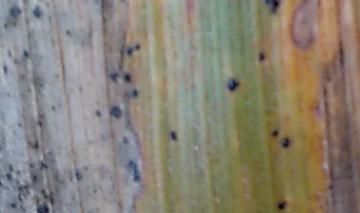tarspot: (124, 158, 142, 184), (261, 1, 284, 16), (8, 6, 23, 29), (225, 76, 241, 93), (253, 49, 268, 65), (31, 4, 43, 22), (108, 104, 121, 120), (105, 71, 120, 84), (280, 137, 292, 150), (276, 199, 287, 213), (16, 185, 23, 204), (122, 71, 133, 83), (270, 127, 280, 140), (73, 168, 82, 182), (123, 46, 135, 56), (39, 161, 49, 173), (22, 182, 31, 195), (35, 205, 49, 213), (5, 46, 13, 60), (93, 108, 103, 119), (169, 129, 178, 141), (27, 160, 36, 172), (40, 188, 48, 201), (12, 57, 22, 67), (132, 87, 141, 98), (121, 134, 129, 146), (21, 48, 30, 58), (30, 140, 39, 150), (31, 173, 39, 184), (1, 62, 8, 74), (9, 201, 18, 210), (4, 172, 12, 182), (37, 119, 44, 130), (19, 71, 26, 81), (49, 195, 55, 206), (14, 168, 22, 176), (64, 27, 71, 36), (50, 104, 57, 113), (134, 43, 141, 51), (2, 22, 9, 30), (26, 86, 33, 93), (328, 183, 334, 191), (16, 121, 22, 129), (7, 163, 12, 172)
